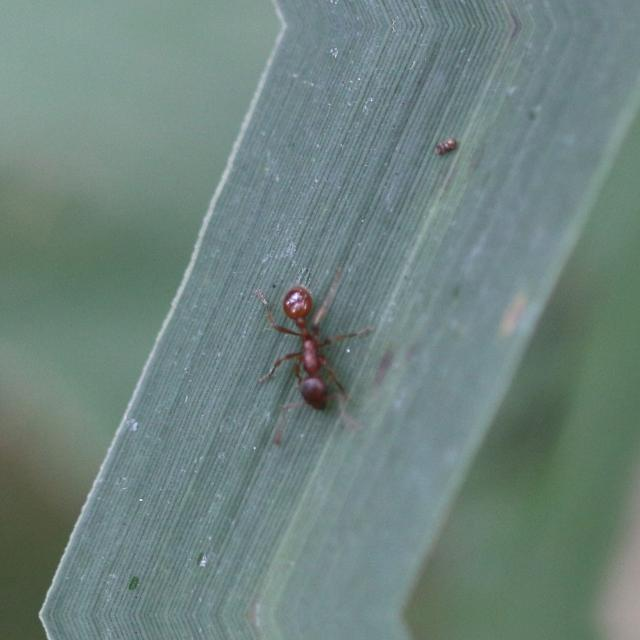Myrmica: (242, 266, 382, 452)
